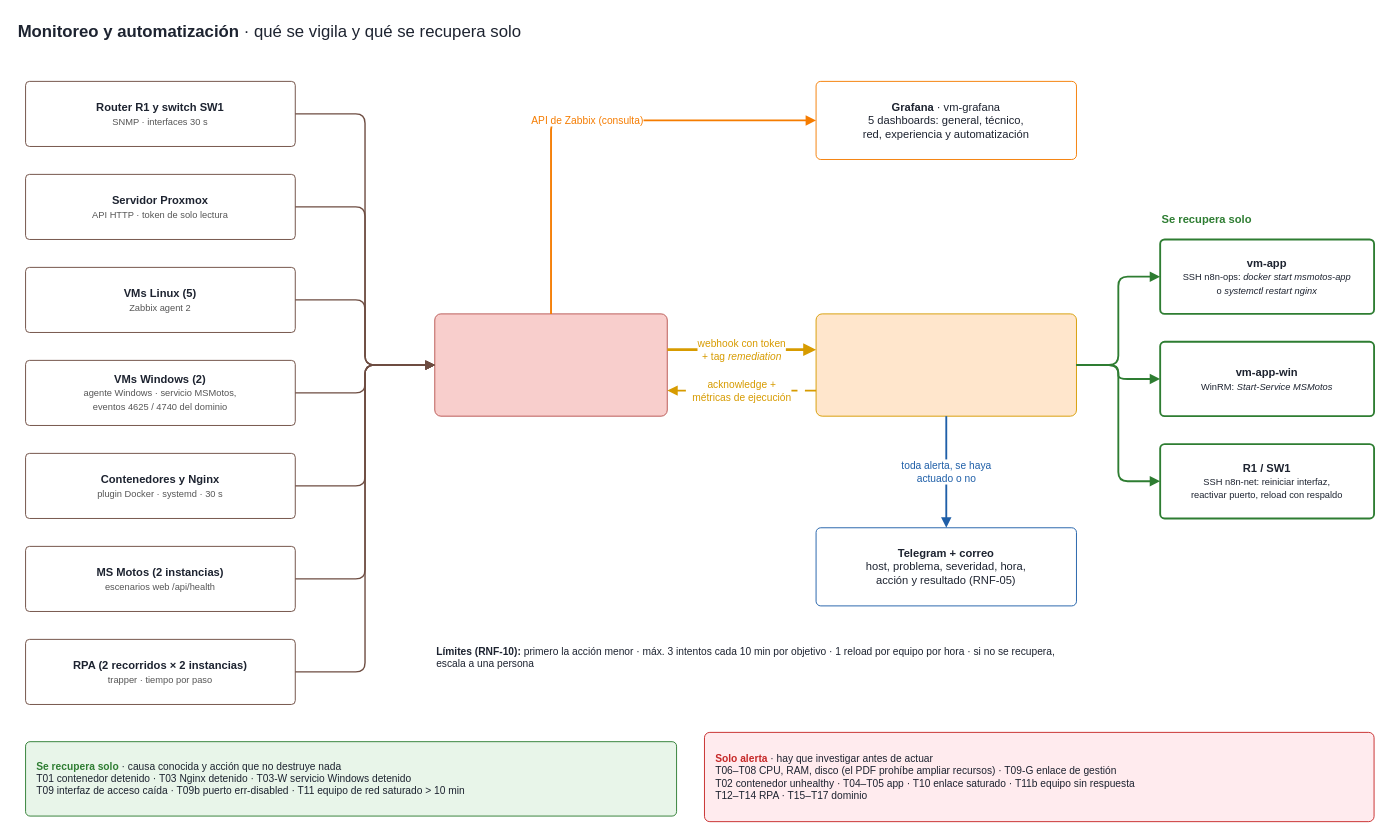
The diagram is 1390 pixels wide and 838 high, and some of its shapes have lost their labels. The centre of each missing label's shape, as x and y in pixels:
"n8n · vm-n8n valida token, lista permitida y límite de intentos" belongs at (x=945, y=364).
"Zabbix · vm-zabbix ítems, umbrales y triggers T01–T17" belongs at (x=550, y=364).
